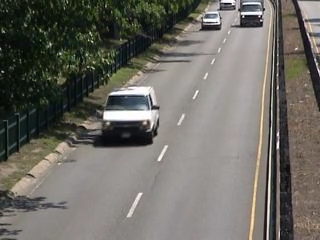car: (200, 11, 225, 32), (218, 1, 238, 12)
truck: (95, 83, 163, 146), (238, 1, 267, 28)
